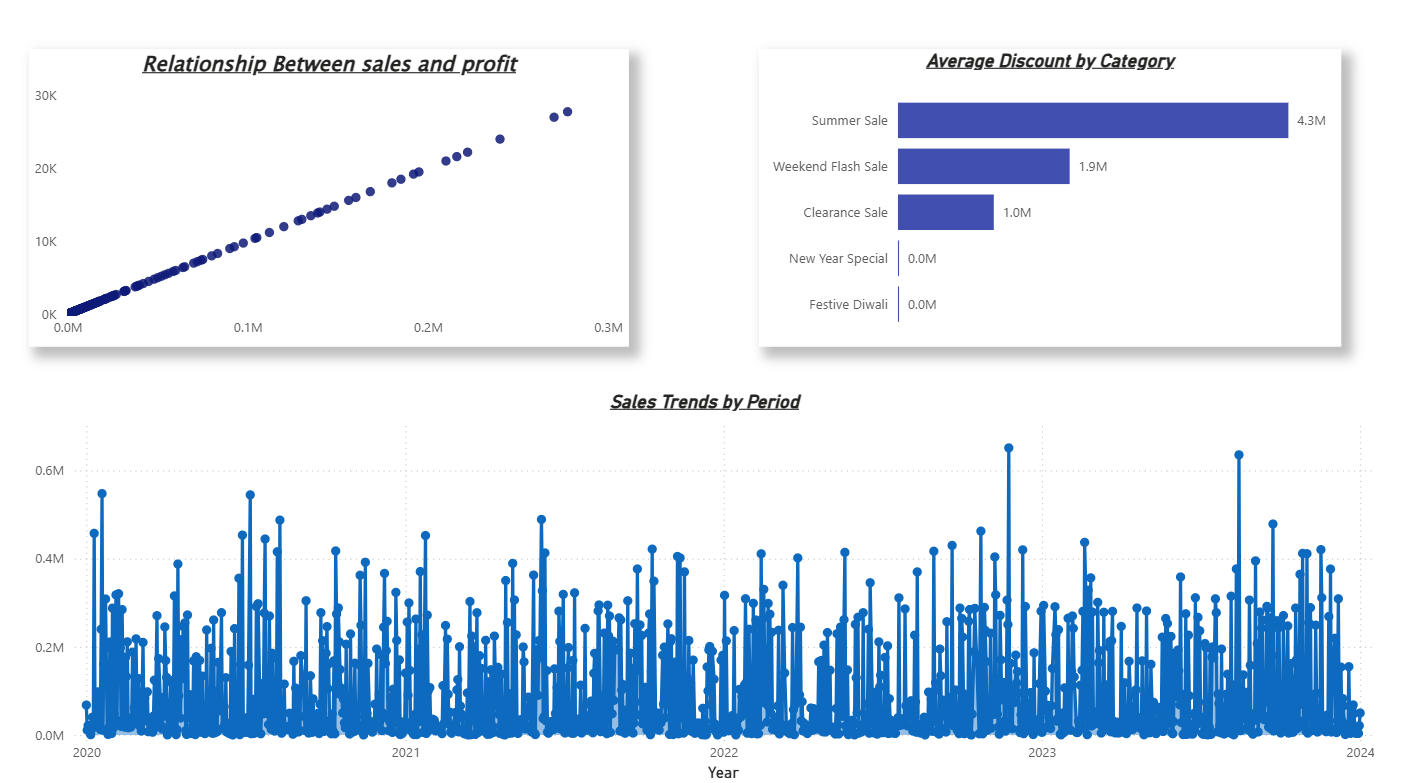

Layout of this report page (visuals, bound fields, positions):
{"tool":"powerbi","page":{"name":"Dashboard 2","canvas":[1280,720],"ordinal":1},"visuals":[{"type":"lineChart","title":"Sales Trends by Period","fields":{"Category":["Date Table1.Date.Variation.Date Hierarchy.Year","Date Table1.Date.Variation.Date Hierarchy.Quarter","Date Table1.Date.Variation.Date Hierarchy.Month","Date Table1.Date.Variation.Date Hierarchy.Day"],"Y":["Sum(Fact Table.Net Sales)"]},"box":[28.1,360,1225.1,360],"z":0},{"type":"scatterChart","title":"Relationship Between sales and profit","fields":{"X":["Fact Table.Net Sales"],"Y":["Fact Table.Profit"]},"box":[27.7,51.1,544.2,270.5],"z":1000},{"type":"barChart","title":"Average Discount by  Category","fields":{"Category":["Dim Promotion.Promotion Name"],"Y":["Sum(Fact Table.Discount Value)"]},"box":[690.1,50.8,527.8,270.2],"z":2000}]}

Visuals, with their boxes in screenshot pixels (x1, y1, x2, y2), scaled from the page's 1280x720 canvas onto the 1408x783 screenshot:
"Sales Trends by Period" lineChart: locate(31, 391, 1379, 782)
"Relationship Between sales and profit" scatterChart: locate(30, 56, 629, 350)
"Average Discount by  Category" barChart: locate(759, 55, 1340, 349)
